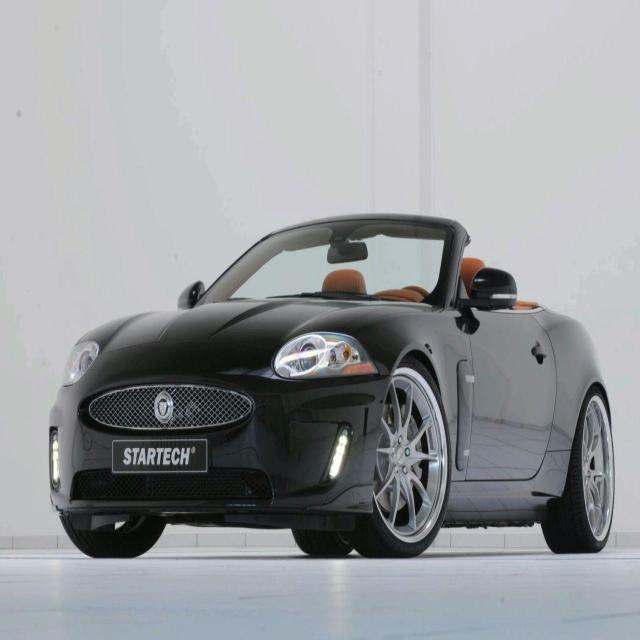Car: (29, 171, 625, 567)
